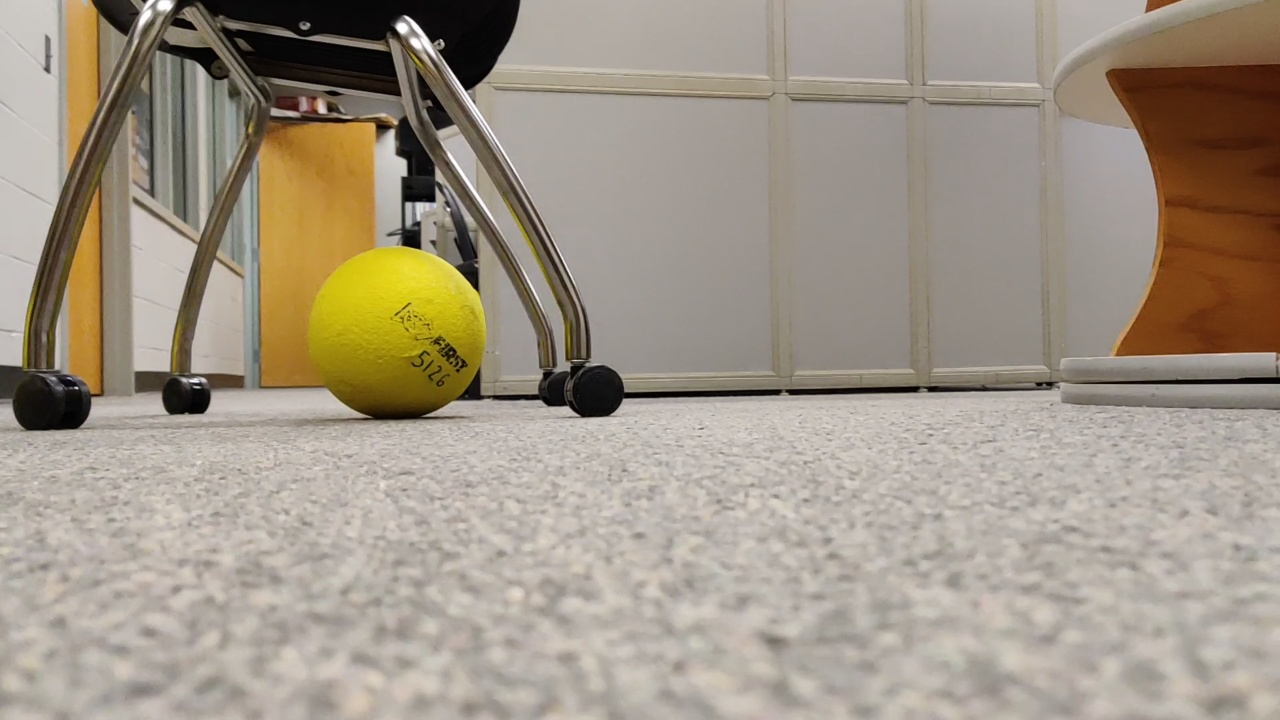Ball: (311, 241, 496, 428)
